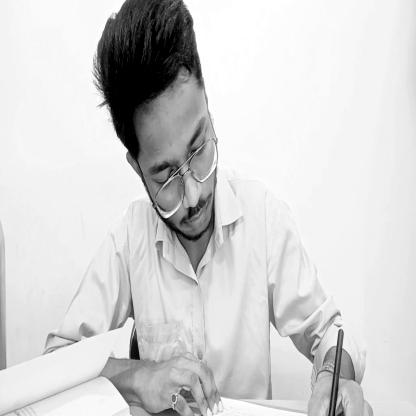Distracted: (96, 11, 219, 250)
